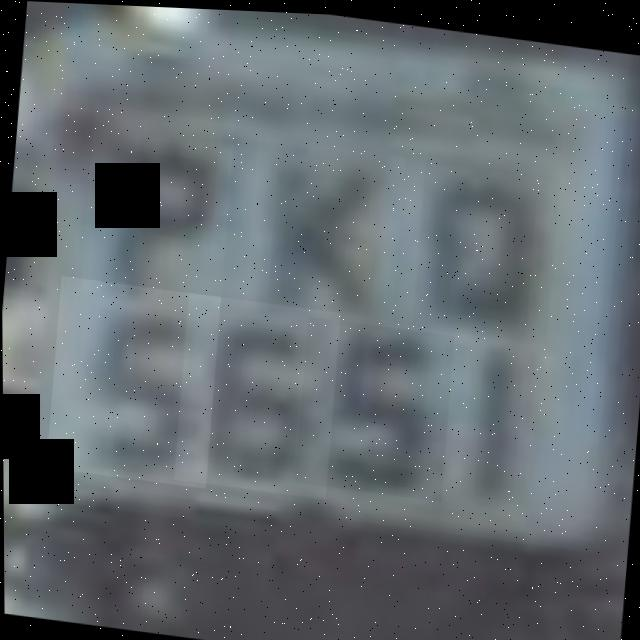1: (432, 335, 559, 515)
5: (44, 274, 221, 487), (293, 313, 455, 498)
6: (172, 290, 341, 496)
D: (410, 155, 561, 339)
P: (79, 102, 236, 307)
X: (243, 134, 406, 320)
